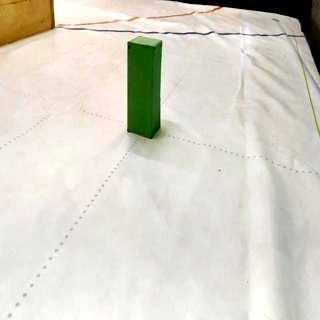greenbox: (126, 34, 164, 140)
